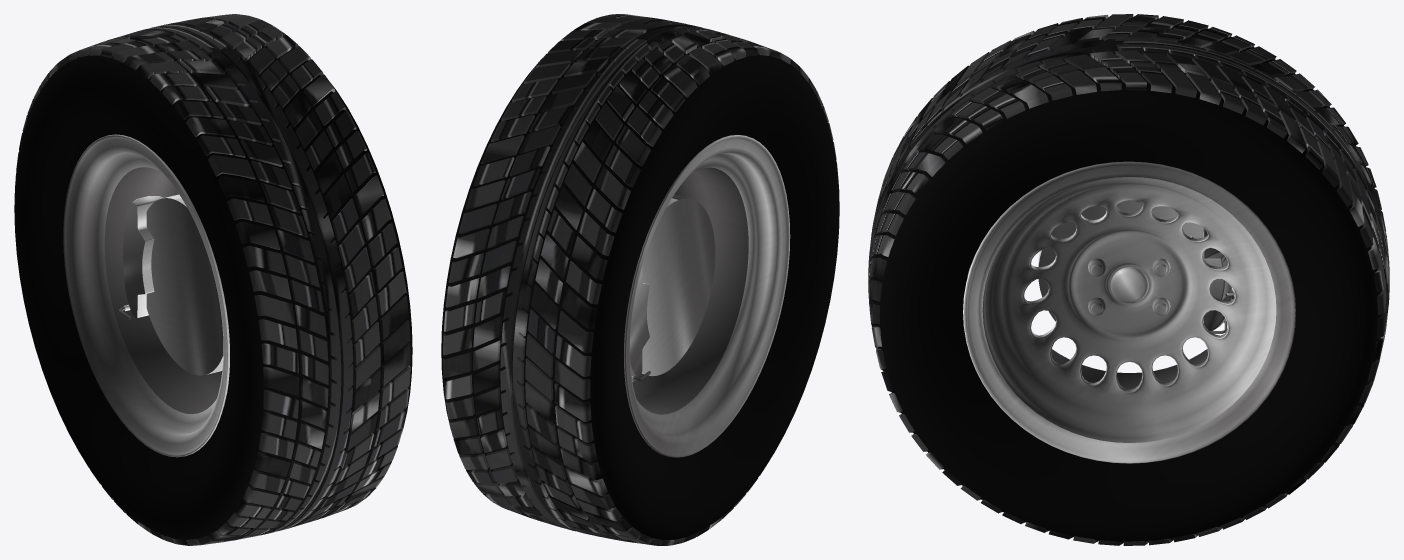
The model's file is LLanta_Delantera_Derecha.obj.
The picture shows the model from 3 angles, left to right: view 1: azimuth 30°, elevation 25°; view 2: azimuth 150°, elevation 25°; view 3: azimuth 270°, elevation 25°; orthographic projection.
Parts seen in each view (by area): view 1: Object092, Object094, Object090, Object086, Object084; view 2: Object092, Object094, Object090, Object086, Object084; view 3: Object094, Object090, Object092, Object086, Object084, Object096, Object082.
Part boxes in pixels (x1,y1,x2,y2): Object092: [15, 14, 410, 545]; Object094: [14, 28, 412, 540]; Object090: [63, 134, 229, 457]; Object086: [146, 194, 223, 375]; Object084: [119, 196, 163, 319]; Object092: [443, 14, 838, 545]; Object094: [441, 31, 839, 540]; Object090: [624, 135, 790, 457]; Object086: [641, 195, 715, 376]; Object084: [630, 266, 650, 381]; Object094: [873, 18, 1382, 542]; Object090: [963, 161, 1295, 463]; Object092: [868, 14, 1389, 545]; Object086: [1038, 200, 1203, 321]; Object084: [1190, 228, 1234, 333]; Object096: [1110, 267, 1148, 302]; Object082: [1088, 258, 1170, 315].
Size of the model in its own units: 20.8 by 57.67 by 57.66.
Materials: 4 (2 with a texture image).
